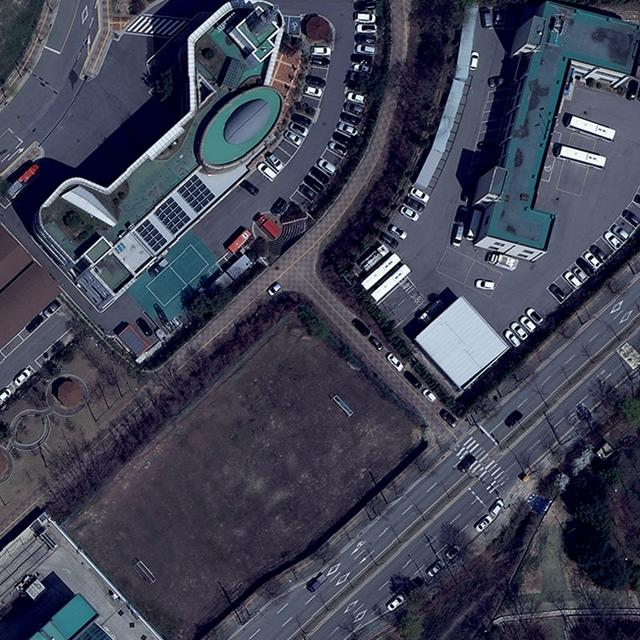panel: (176, 173, 216, 212), (152, 195, 191, 235), (134, 218, 167, 251)
